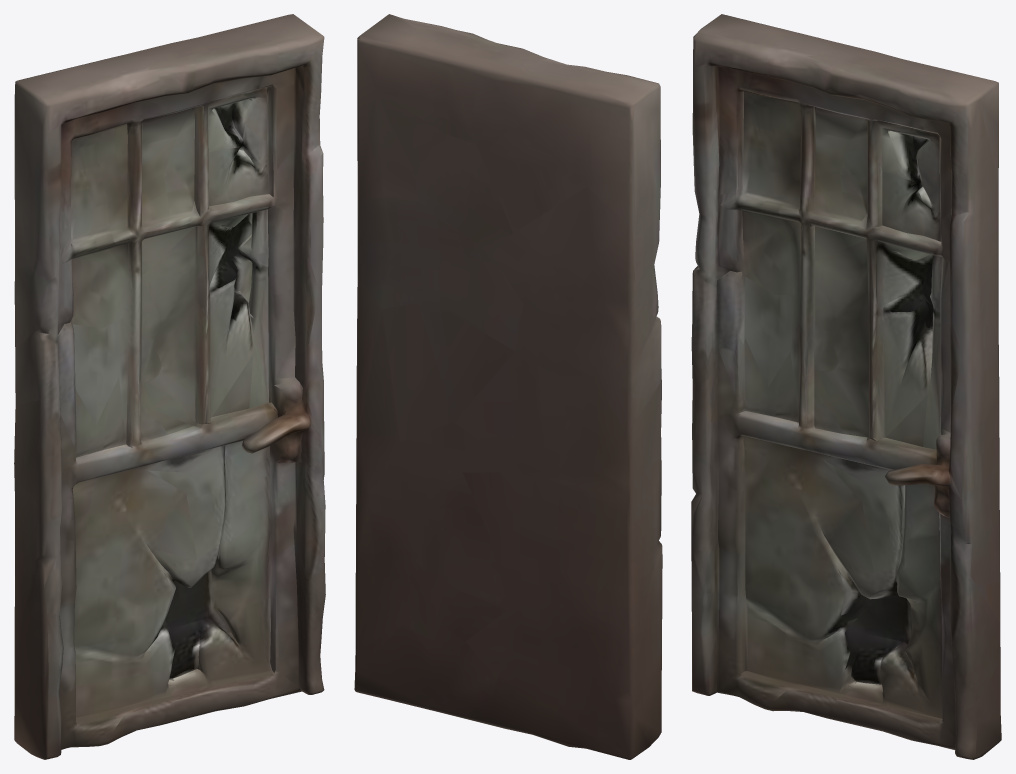
The model's file is door_2.glb.
3 renders of one model, left to right at view 1: azimuth 30°, elevation 25°; view 2: azimuth 150°, elevation 25°; view 3: azimuth 330°, elevation 25°, orthographic.
Parts seen in each view (by area): view 1: door; view 2: door; view 3: door.
Boxes of the visible parts, x1=… form: door: x1=14, y1=14, x2=325, y2=759; door: x1=354, y1=14, x2=662, y2=759; door: x1=691, y1=14, x2=1001, y2=759.
Size of the model in its own units: 0.9333 by 2.1 by 0.2322.
Materials: 1 (1 with a texture image).
